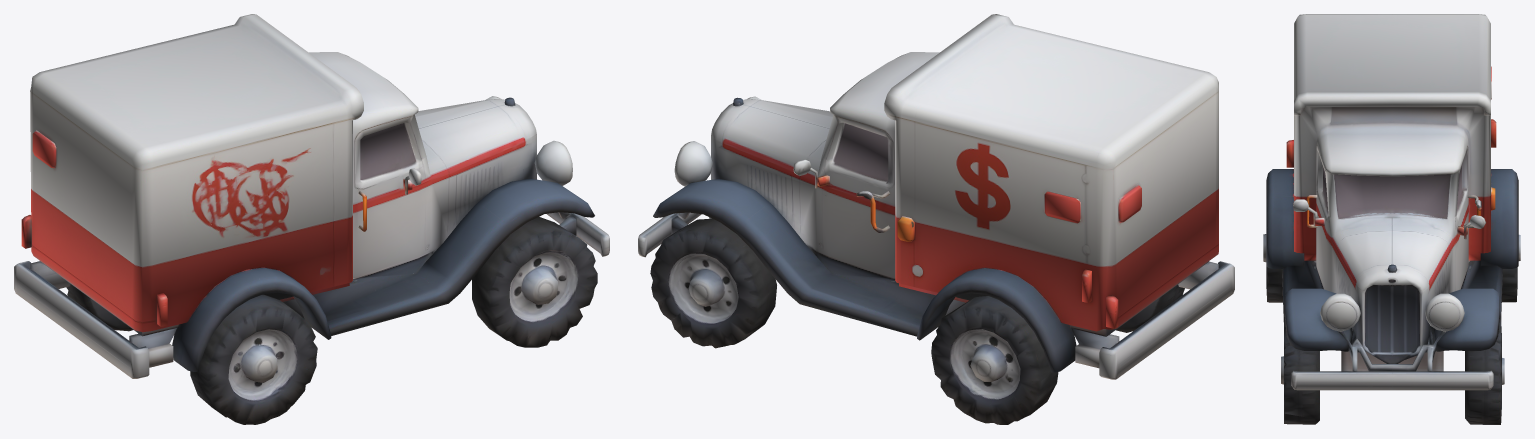
File: heist_van.glb
3 renders of one model, left to right at view 1: azimuth 30°, elevation 25°; view 2: azimuth 150°, elevation 25°; view 3: azimuth 270°, elevation 25°, orthographic. The views are drawn at different scales.
Parts seen in each view (by area): view 1: tripo_node_50d06b20-41db-49eb-8b6c-296e73251c3d; view 2: tripo_node_50d06b20-41db-49eb-8b6c-296e73251c3d; view 3: tripo_node_50d06b20-41db-49eb-8b6c-296e73251c3d.
Boxes of the visible parts, left/top/right/bottom form: tripo_node_50d06b20-41db-49eb-8b6c-296e73251c3d: left=14, top=14, right=609, bottom=424; tripo_node_50d06b20-41db-49eb-8b6c-296e73251c3d: left=638, top=14, right=1234, bottom=424; tripo_node_50d06b20-41db-49eb-8b6c-296e73251c3d: left=1263, top=14, right=1520, bottom=424.
Size of the model in its own units: 0.998 by 0.5801 by 0.541.
Materials: 1 (1 with a texture image).
